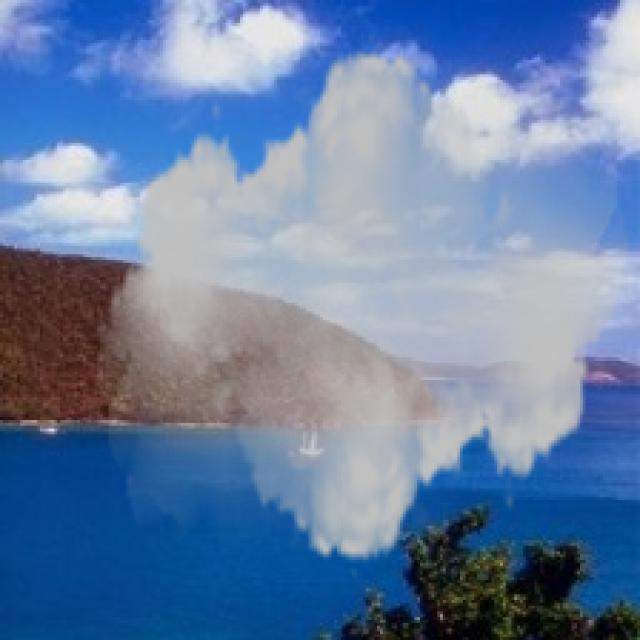Smoke: (97, 28, 629, 583)
